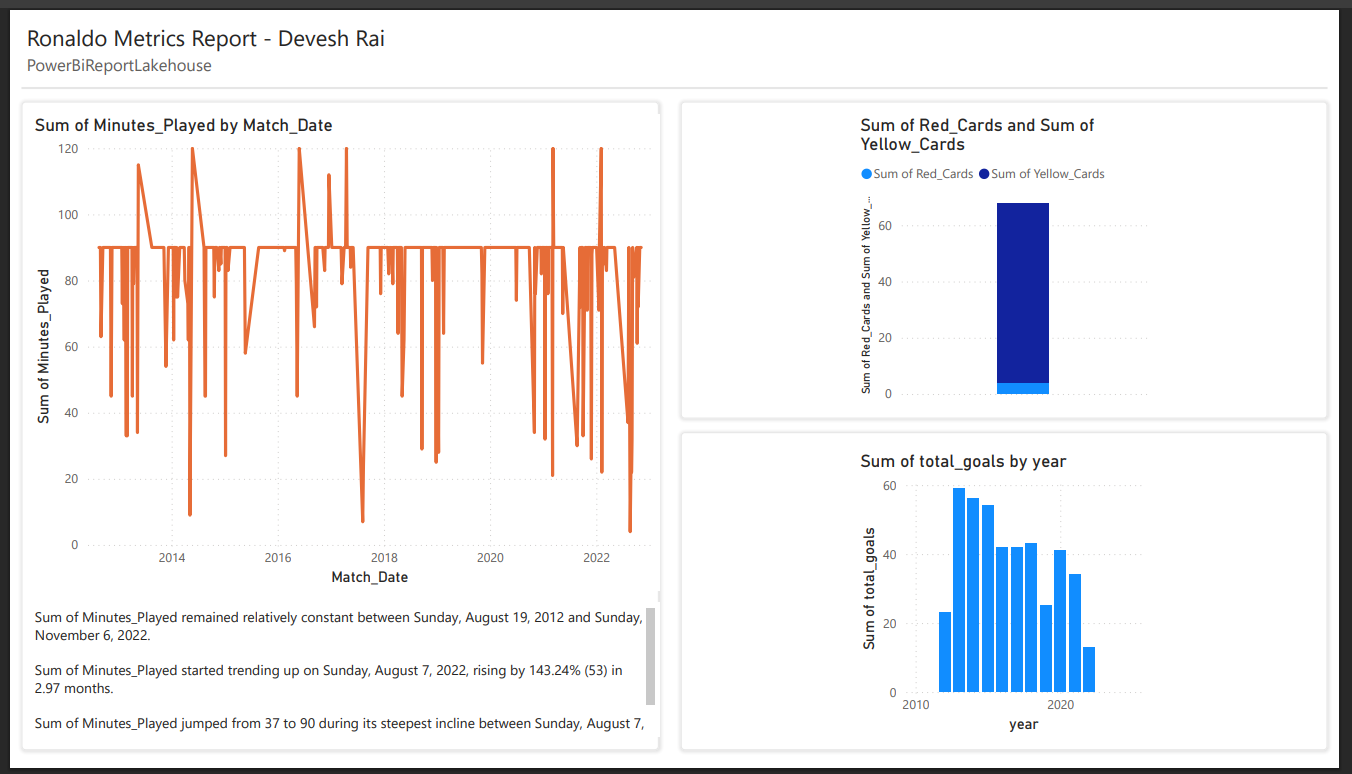

The page's visual inventory and layout, read from the dashboard file:
{"tool":"powerbi","page":{"name":"Page 1","canvas":[1280,720],"ordinal":0},"visuals":[{"type":"shape","box":[12,58,1256,26],"z":0},{"type":"shape","box":[11.7,84.5,613.4,623.8],"z":1000},{"type":"shape","box":[645.9,84.5,622.5,305.4],"z":2000},{"type":"shape","box":[646,402,622,306],"z":3000},{"type":"textbox","box":[20,566,606,129],"z":4000},{"type":"lineChart","fields":{"Category":["ronaldo_matchwise.Match_Date"],"Y":["ronaldo_matchwise.Minutes_Played"]},"box":[20,96,606,458],"z":5000},{"type":"textbox","box":[12,33,306,32],"z":8000},{"type":"textbox","box":[11.7,2.6,379.5,39],"z":9000},{"type":"columnChart","fields":{"Y":["ronaldo_cards_by_year.Red_Cards","ronaldo_cards_by_year.Yellow_Cards"]},"box":[813.5,96.2,285.9,283.3],"z":10000},{"type":"lineClusteredColumnComboChart","fields":{"Category":["ronaldo_goals_by_year.year"],"Y":["ronaldo_goals_by_year.total_goals"]},"box":[813.5,419.8,285.9,275.5],"z":10001}]}

Visuals, with their boxes in screenshot pixels (x1, y1, x2, y2), scaled from the page's 1280x720 canvas onto the 1352x774 screenshot:
shape: <bbox>13, 62, 1339, 90</bbox>
shape: <bbox>12, 91, 660, 761</bbox>
shape: <bbox>682, 91, 1340, 419</bbox>
shape: <bbox>682, 432, 1339, 761</bbox>
textbox: <bbox>21, 608, 661, 747</bbox>
lineChart - ronaldo_matchwise.Match_Date x ronaldo_matchwise.Minutes_Played: <bbox>21, 103, 661, 596</bbox>
textbox: <bbox>13, 35, 336, 70</bbox>
textbox: <bbox>12, 3, 413, 45</bbox>
columnChart - ronaldo_cards_by_year.Red_Cards x ronaldo_cards_by_year.Yellow_Cards: <bbox>859, 103, 1161, 408</bbox>
lineClusteredColumnComboChart - ronaldo_goals_by_year.year x ronaldo_goals_by_year.total_goals: <bbox>859, 451, 1161, 747</bbox>
